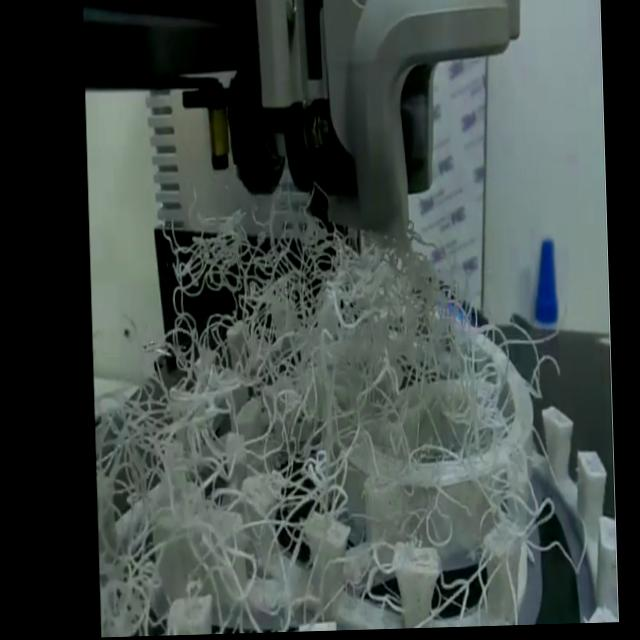spaghetti: (85, 186, 461, 638)
